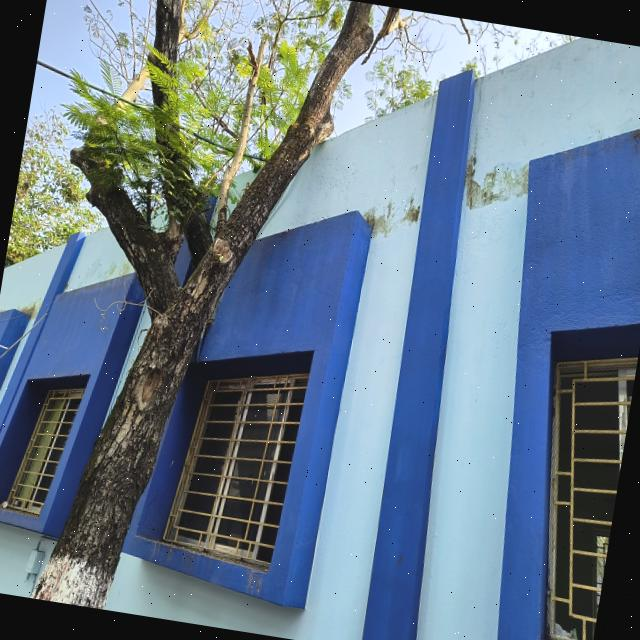stain_mould: (462, 132, 531, 214), (362, 197, 421, 240), (101, 259, 134, 281), (13, 298, 41, 321), (64, 279, 71, 294)
